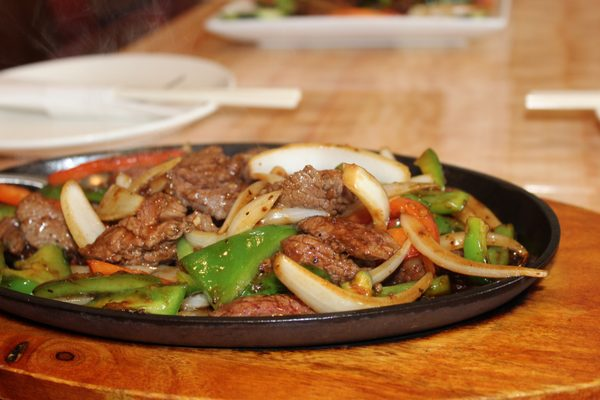curry: (177, 222, 302, 310)
